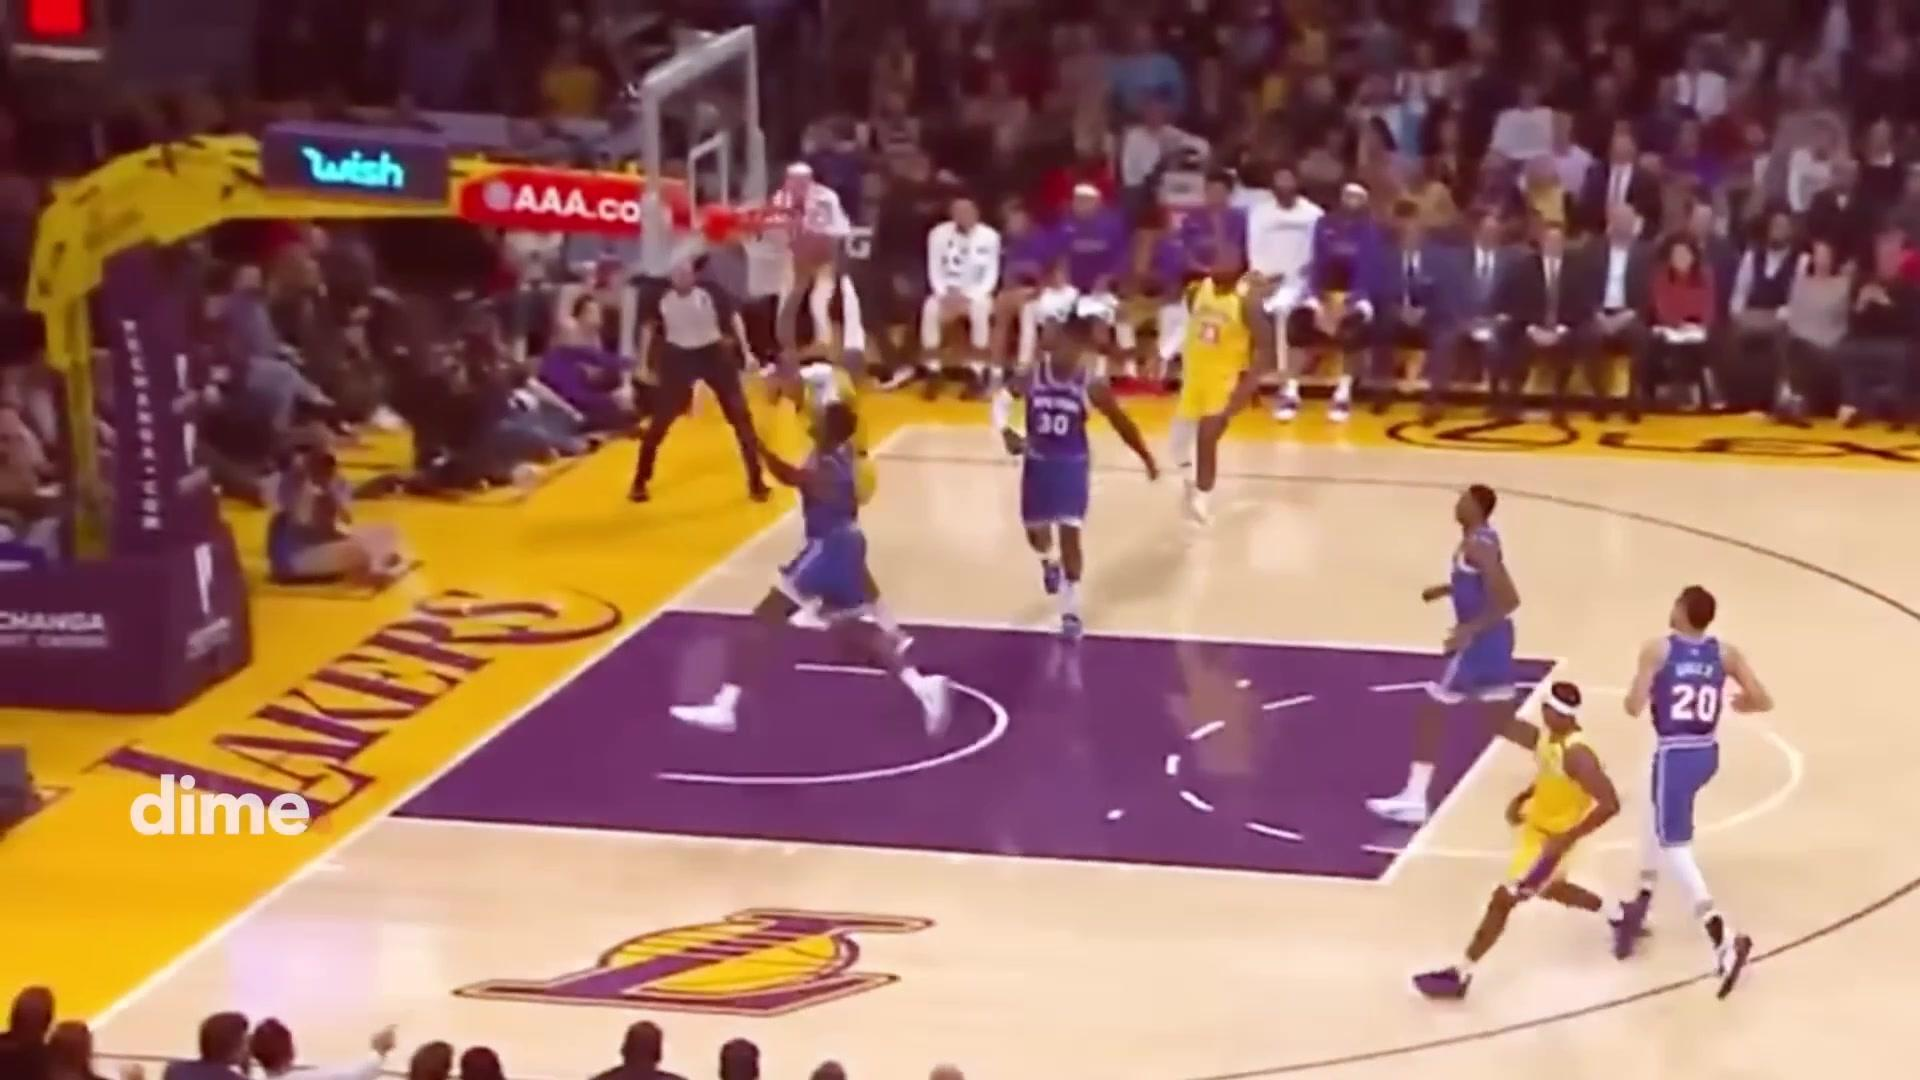foul: (687, 307, 942, 741)
